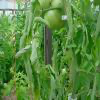Tomato leaf: (29, 38, 41, 75), (51, 38, 60, 71), (33, 15, 52, 30), (24, 8, 30, 36)
